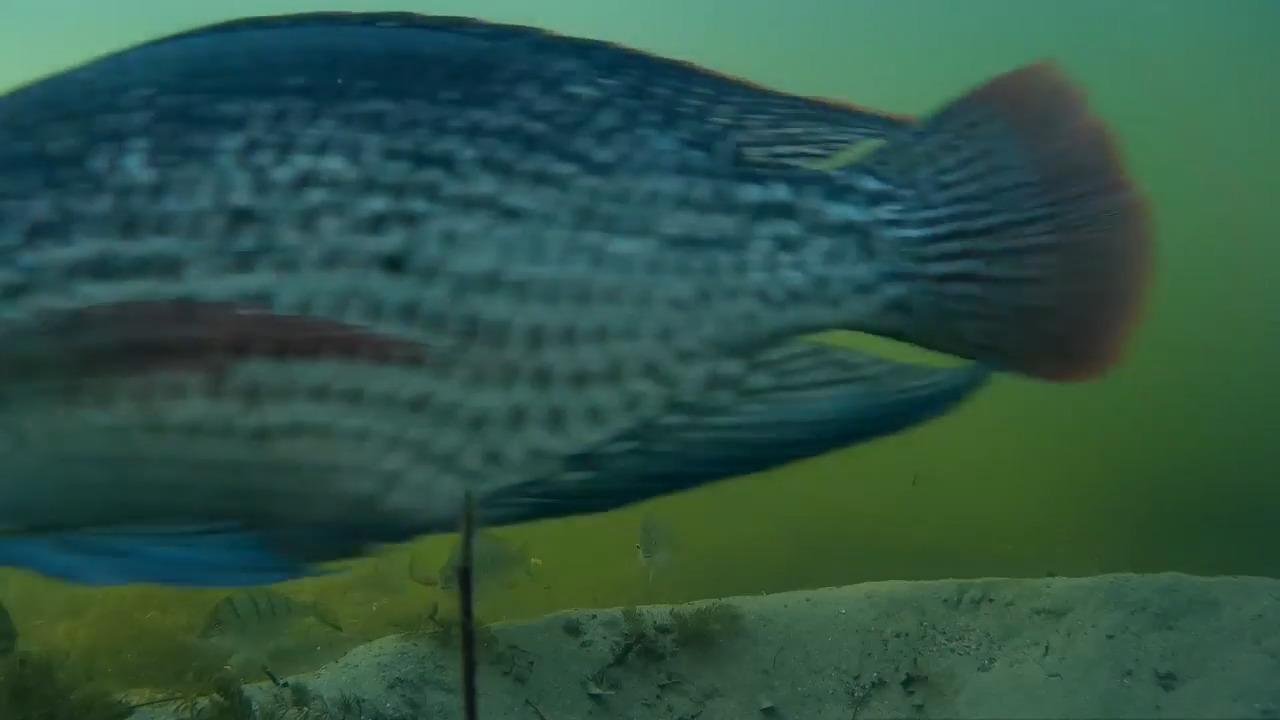Tilapia: (0, 0, 1159, 607), (192, 558, 401, 674), (428, 500, 565, 636), (618, 506, 711, 606)
